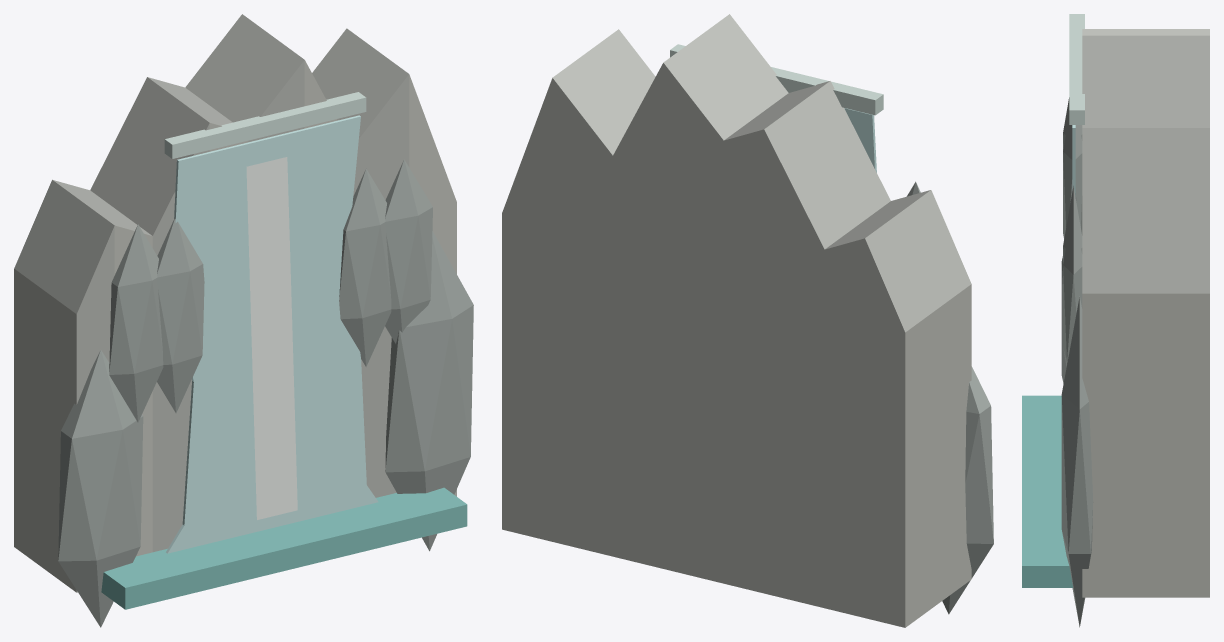
The model's file is north_waterfall_near-B1b3Du1L.glb.
3 views of the same model, side by side, from view 1: azimuth 30°, elevation 25°; view 2: azimuth 150°, elevation 25°; view 3: azimuth 270°, elevation 25° (orthographic). The views are drawn at different scales.
Parts seen in each view (by area): view 1: north_waterfall_near; view 2: north_waterfall_near; view 3: north_waterfall_near.
Part boxes in pixels (x1=…): north_waterfall_near: x1=14, y1=14, x2=473, y2=627; north_waterfall_near: x1=502, y1=14, x2=993, y2=627; north_waterfall_near: x1=1022, y1=14, x2=1209, y2=627.
Bounding box in the file's own units: 21.86 × 26.2 × 8.4.
